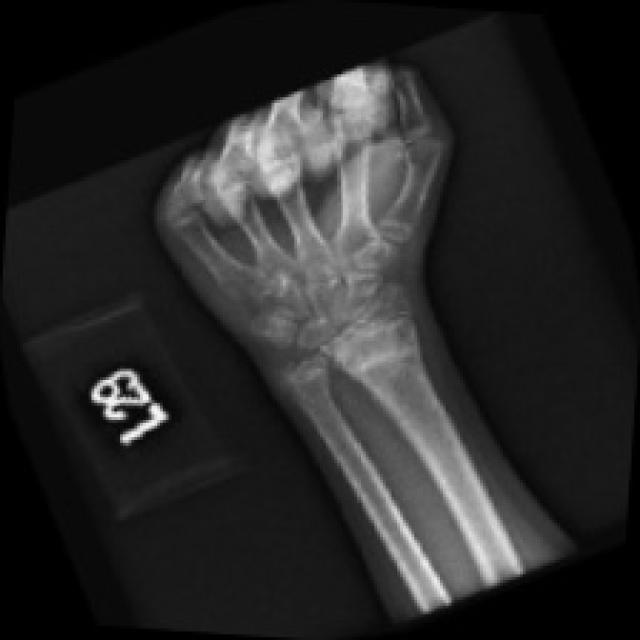fracture: (346, 212, 440, 278)
